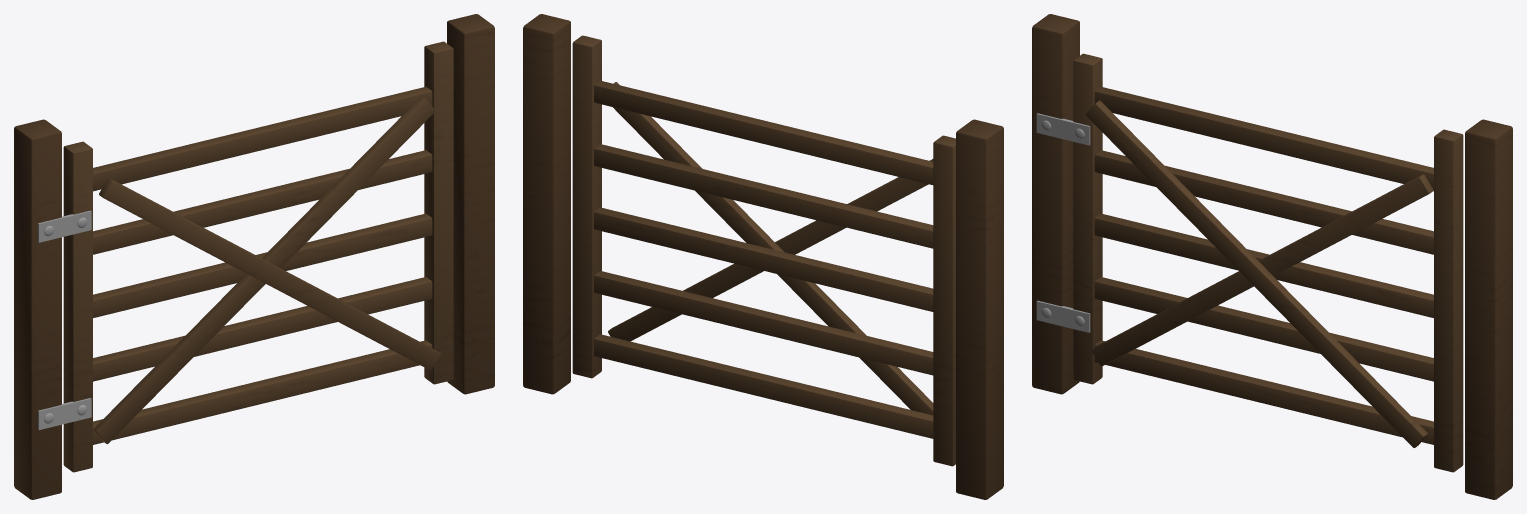
Rendered from puerta cerca.fbx.
3 views of the same model, side by side, from view 1: azimuth 30°, elevation 25°; view 2: azimuth 150°, elevation 25°; view 3: azimuth 330°, elevation 25° (orthographic).
Parts seen in each view (by area): view 1: Puerta_Hoja, Puerta_Postes, Puerta_Bisagra_Inf, Puerta_Bisagra_Sup; view 2: Puerta_Hoja, Puerta_Postes; view 3: Puerta_Hoja, Puerta_Postes, Puerta_Bisagra_Inf, Puerta_Bisagra_Sup.
Part boxes in pixels (<box>): Puerta_Hoja: <box>63,41,453,472</box>; Puerta_Postes: <box>14,14,494,499</box>; Puerta_Bisagra_Inf: <box>38,398,91,429</box>; Puerta_Bisagra_Sup: <box>38,210,91,242</box>; Puerta_Hoja: <box>572,35,955,466</box>; Puerta_Postes: <box>523,14,1003,499</box>; Puerta_Hoja: <box>1073,53,1463,472</box>; Puerta_Postes: <box>1032,14,1512,499</box>; Puerta_Bisagra_Inf: <box>1036,300,1090,332</box>; Puerta_Bisagra_Sup: <box>1036,113,1090,145</box>.
Size of the model in its own units: 161 by 120 by 16.3.
3 materials, 2 textured.
